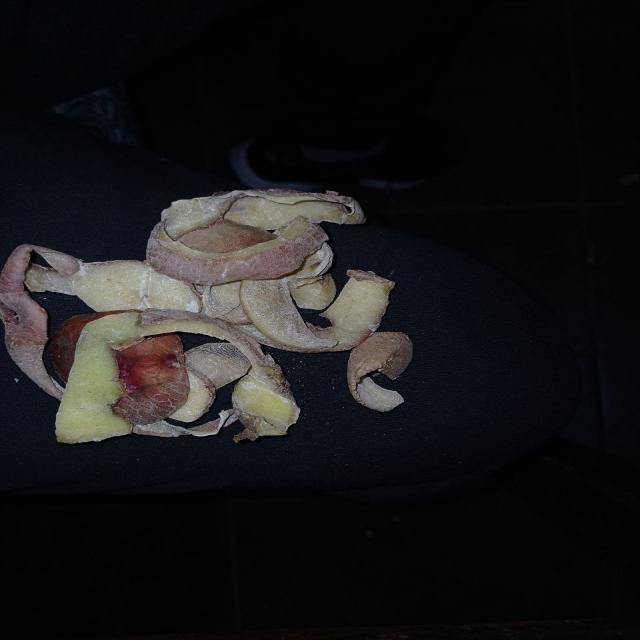organic: (2, 189, 416, 444)
